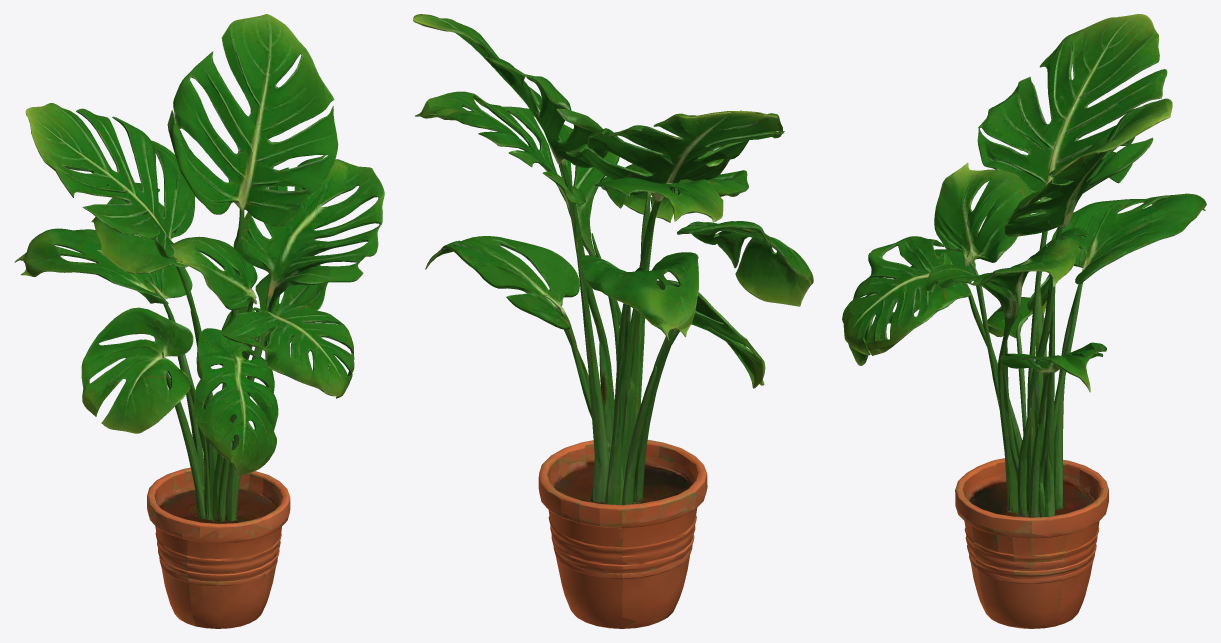
The model's file is plant.glb.
3 views of the same model, side by side, from view 1: azimuth 30°, elevation 25°; view 2: azimuth 150°, elevation 25°; view 3: azimuth 270°, elevation 25° (orthographic). The views are drawn at different scales.
Bounding box in the file's own units: 1.22 × 1.9 × 1.14.
Materials: 1 (1 with a texture image).
